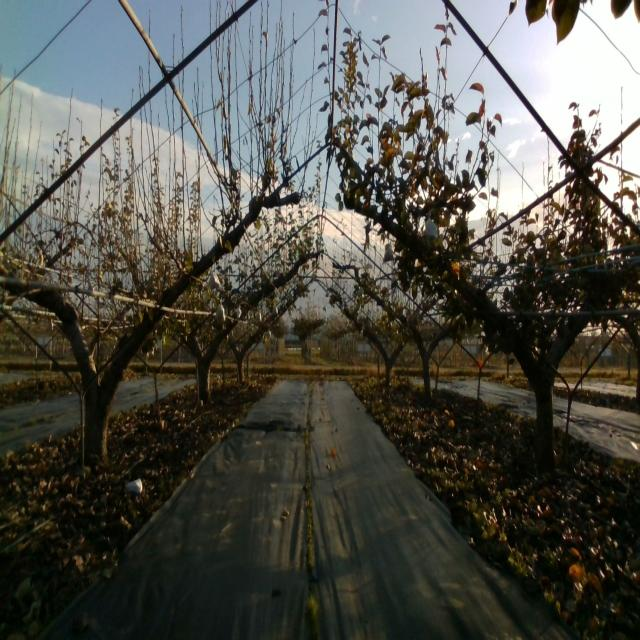pearbags: (424, 216, 438, 240), (208, 270, 221, 290), (215, 299, 226, 322)
